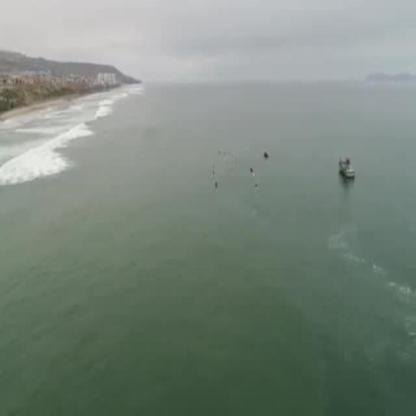Boat: (334, 155, 358, 185)
